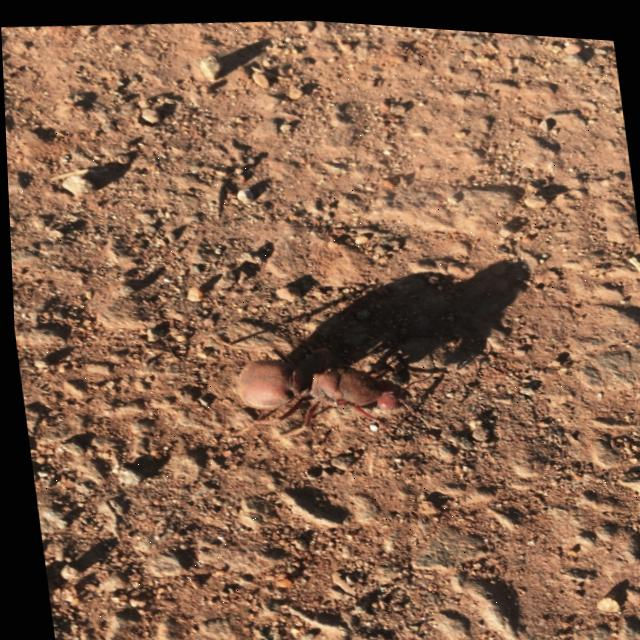Alive-Female-Dealate: (213, 313, 440, 452)
